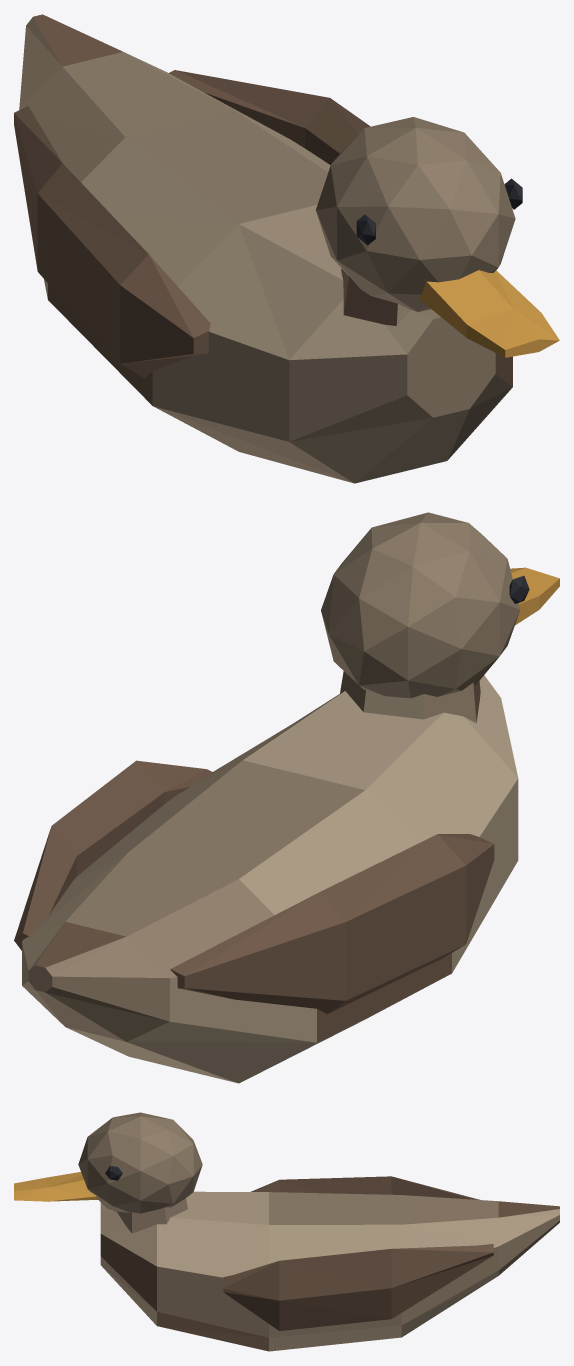
The model's file is Duck_Hen.fbx.
The picture shows the model from 3 angles, top to bottom: view 1: azimuth 30°, elevation 25°; view 2: azimuth 150°, elevation 25°; view 3: azimuth 270°, elevation 25°; orthographic projection. The views are drawn at different scales.
Visible parts, largest first — view 1: Duck_Hen_Body, Duck_Hen_Head; view 2: Duck_Hen_Body, Duck_Hen_Head; view 3: Duck_Hen_Body, Duck_Hen_Head.
Part boxes in pixels (<box>): Duck_Hen_Body: <box>14,14,512,483</box>; Duck_Hen_Head: <box>316,117,559,357</box>; Duck_Hen_Body: <box>14,671,518,1083</box>; Duck_Hen_Head: <box>321,512,559,698</box>; Duck_Hen_Body: <box>100,1176,559,1351</box>; Duck_Hen_Head: <box>14,1112,202,1213</box>.
Size of the model in its own units: 0.2169 by 0.535 by 0.2364.
